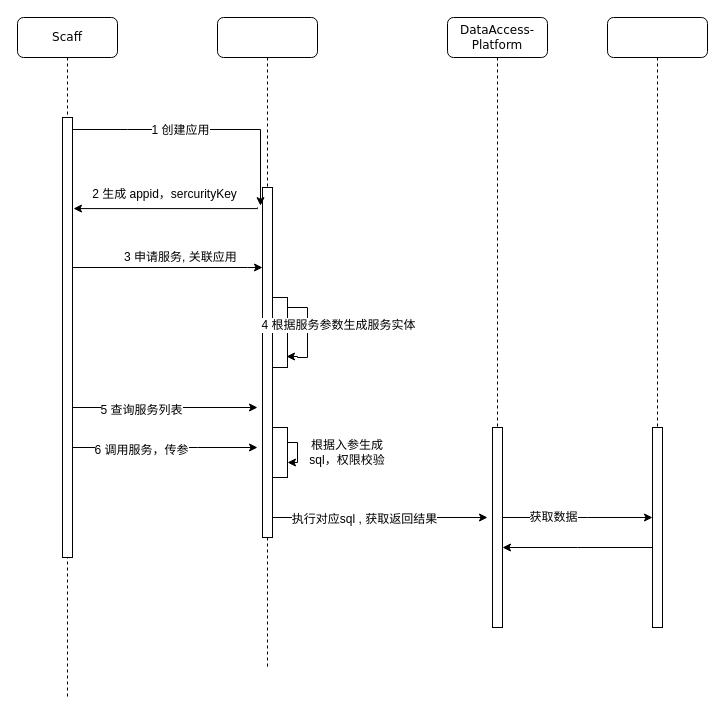
The diagram is 725 pixels wide and 715 high, and some of its shapes have lost their labels. The shapes that lost their labels are listed below. From the top down, each one's box as (x1, y1, x2, y2) in pixels, then its label:
(216, 16, 318, 668): Open Service
(606, 16, 708, 628): Data
